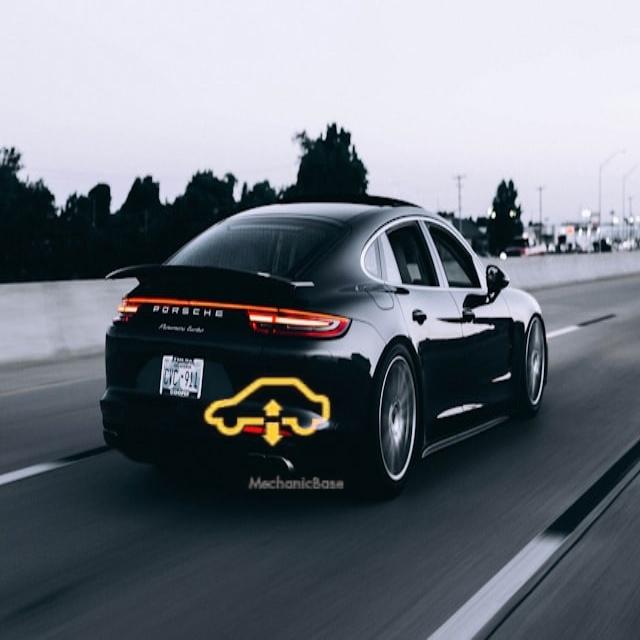symbol: (184, 331, 350, 497)
